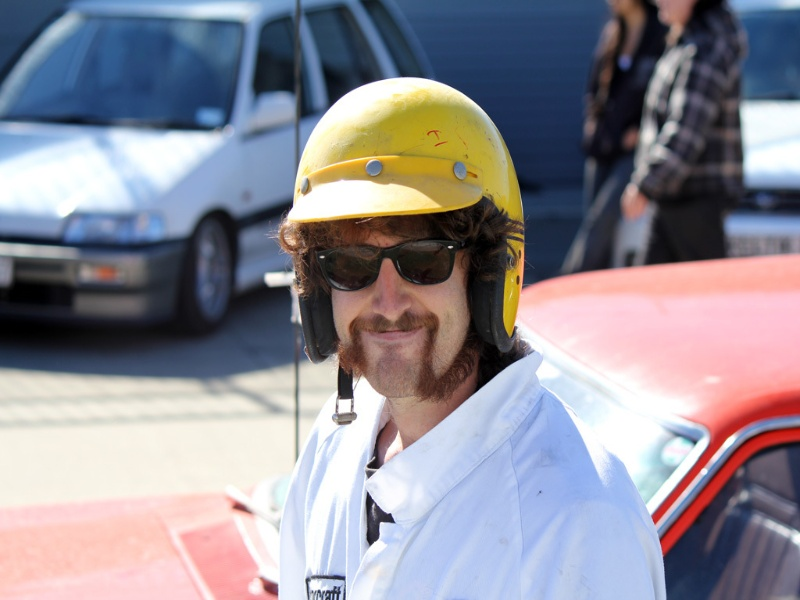Baret: (287, 76, 528, 244)
